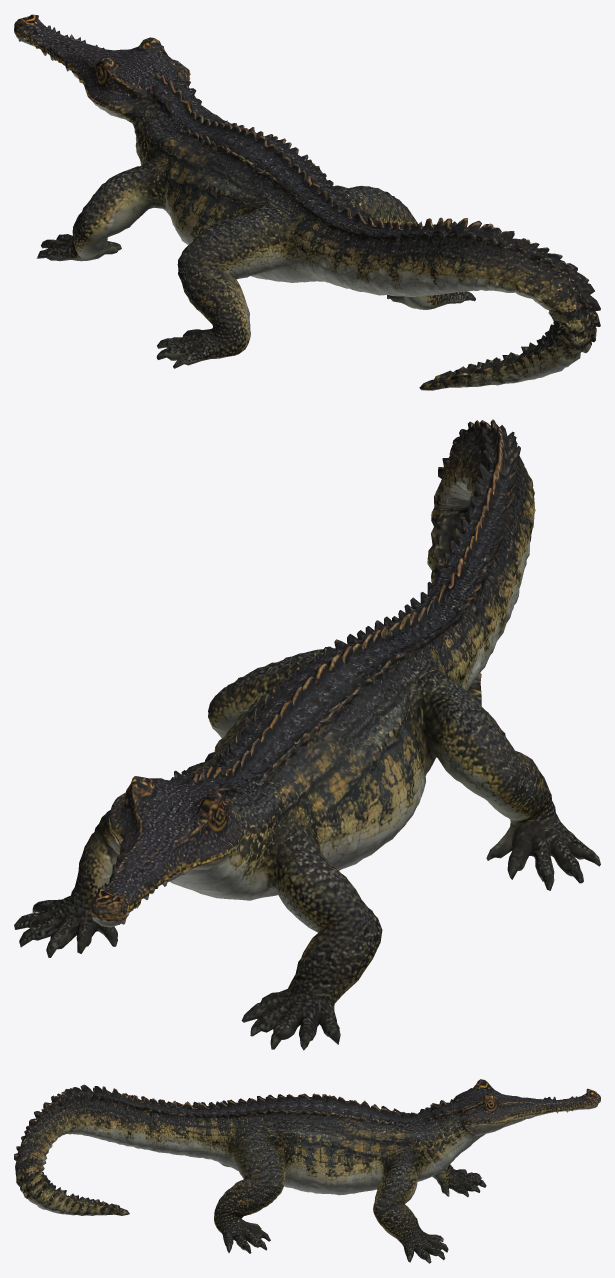
The model's file is mystriosuchus.raw.glb.
3 renders of one model, top to bottom at view 1: azimuth 30°, elevation 25°; view 2: azimuth 150°, elevation 25°; view 3: azimuth 270°, elevation 25°, orthographic. The views are drawn at different scales.
Visible parts, largest first — view 1: tripo_node_9878131d-8e3e-4773-b931-a8221e63f27d; view 2: tripo_node_9878131d-8e3e-4773-b931-a8221e63f27d; view 3: tripo_node_9878131d-8e3e-4773-b931-a8221e63f27d.
Part boxes in pixels (x1,y1,x2,y2): tripo_node_9878131d-8e3e-4773-b931-a8221e63f27d: [14, 14, 600, 390]; tripo_node_9878131d-8e3e-4773-b931-a8221e63f27d: [14, 419, 600, 1050]; tripo_node_9878131d-8e3e-4773-b931-a8221e63f27d: [14, 1079, 600, 1263].
Size of the model in its own units: 0.4118 by 0.2711 by 1.
1 material, 1 textured.
